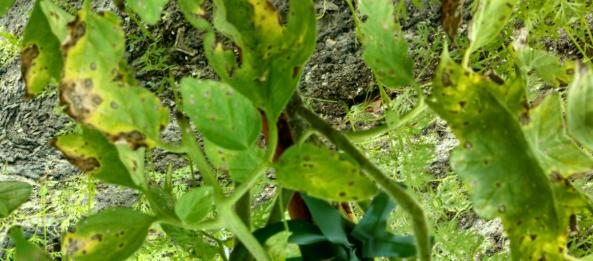Tomato Septoria leaf spot: (400, 27, 543, 184), (265, 115, 378, 232), (65, 65, 180, 176), (167, 52, 275, 169), (43, 107, 152, 217), (326, 0, 434, 98), (43, 182, 163, 261), (427, 0, 565, 57)
